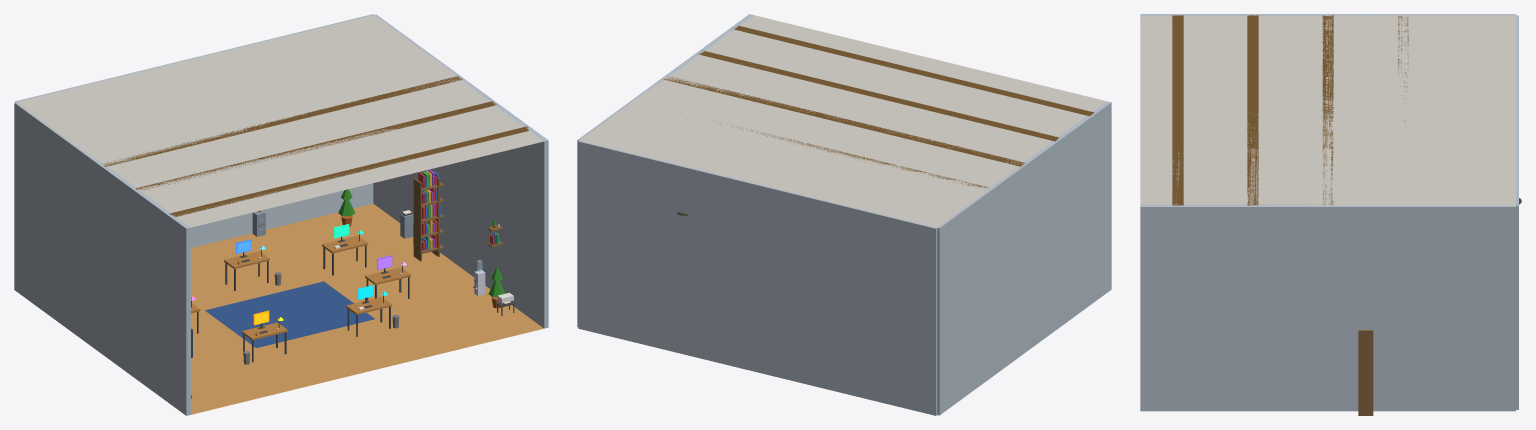
Rendered from office.glb.
3 renders of one model, left to right at view 1: azimuth 30°, elevation 25°; view 2: azimuth 150°, elevation 25°; view 3: azimuth 270°, elevation 25°, orthographic. The views are drawn at different scales.
Visible parts, largest first — view 1: Ceiling, Floor, LeftWall, RightWall, Rug, BackWall, Beam_4, Beam_2, Beam_3, Bookshelf_Panel_0; view 2: BackWall, Ceiling, LeftWall, Beam_3, Beam_4, Beam_2, RightWall, Beam_1; view 3: RightWall, Ceiling, Beam_4, Beam_3, Beam_2, Bookshelf_Panel_2, BackWall, LeftWall.
Boxes of the visible parts, x1,y1,x2,y2 form: Ceiling: [17, 15, 543, 227]; Floor: [191, 203, 543, 414]; LeftWall: [14, 102, 190, 415]; RightWall: [373, 14, 548, 328]; Rug: [205, 281, 374, 347]; BackWall: [15, 14, 373, 247]; Beam_4: [169, 126, 529, 216]; Beam_2: [102, 76, 462, 166]; Beam_3: [135, 101, 496, 190]; Bookshelf_Panel_0: [413, 178, 421, 261]; BackWall: [578, 140, 937, 415]; Ceiling: [580, 15, 1106, 227]; LeftWall: [937, 101, 1111, 415]; Beam_3: [698, 51, 1059, 141]; Beam_4: [734, 26, 1094, 116]; Beam_2: [663, 77, 1025, 166]; RightWall: [577, 14, 753, 327]; Beam_1: [717, 122, 989, 188]; RightWall: [1140, 204, 1515, 411]; Ceiling: [1140, 15, 1515, 205]; Beam_4: [1172, 15, 1183, 205]; Beam_3: [1247, 15, 1258, 205]; Beam_2: [1322, 15, 1333, 205]; Bookshelf_Panel_2: [1358, 330, 1373, 415]; BackWall: [1513, 15, 1518, 409]; LeftWall: [1140, 14, 1515, 16].
Size of the model in its own units: 24.9 by 12 by 20.3.
